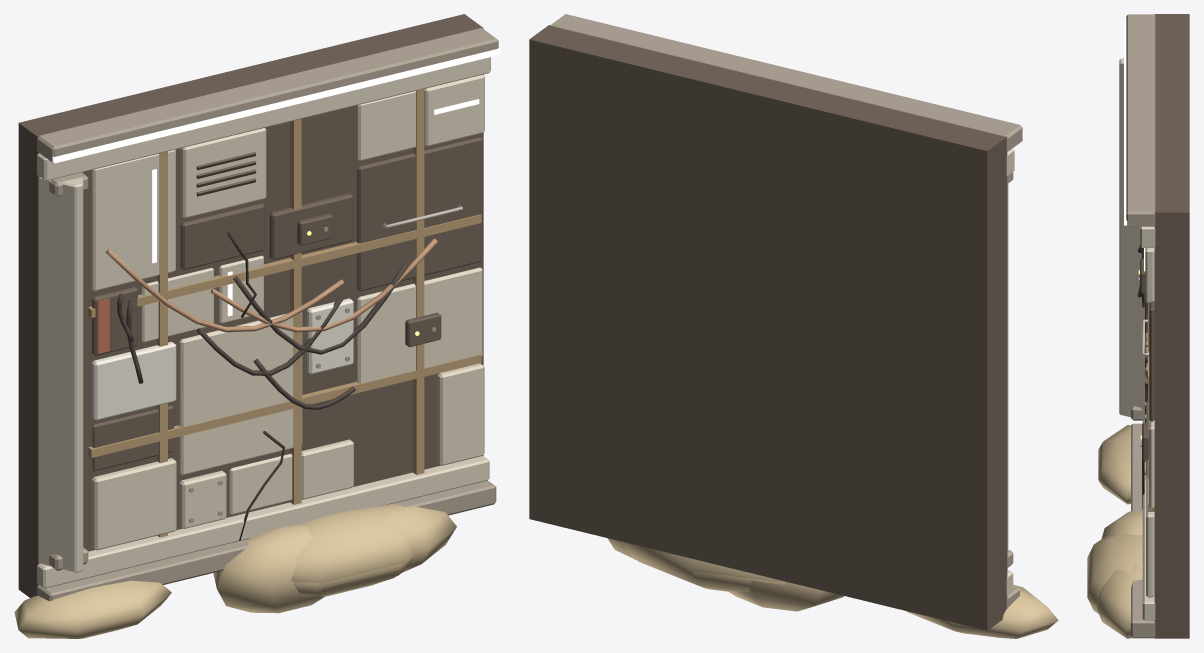
The model's file is wall_du_breach.glb.
3 views of the same model, side by side, from view 1: azimuth 30°, elevation 25°; view 2: azimuth 150°, elevation 25°; view 3: azimuth 270°, elevation 25° (orthographic). The views are drawn at different scales.
Parts seen in each view (by area): view 1: wall_du_breach; view 2: wall_du_breach; view 3: wall_du_breach.
Part boxes in pixels (box(x1,y1,x2,y2)): wall_du_breach: box(14, 14, 500, 638); wall_du_breach: box(529, 14, 1058, 638); wall_du_breach: box(1087, 14, 1189, 638).
Size of the model in its own units: 4.32 by 4.47 by 0.8724.
